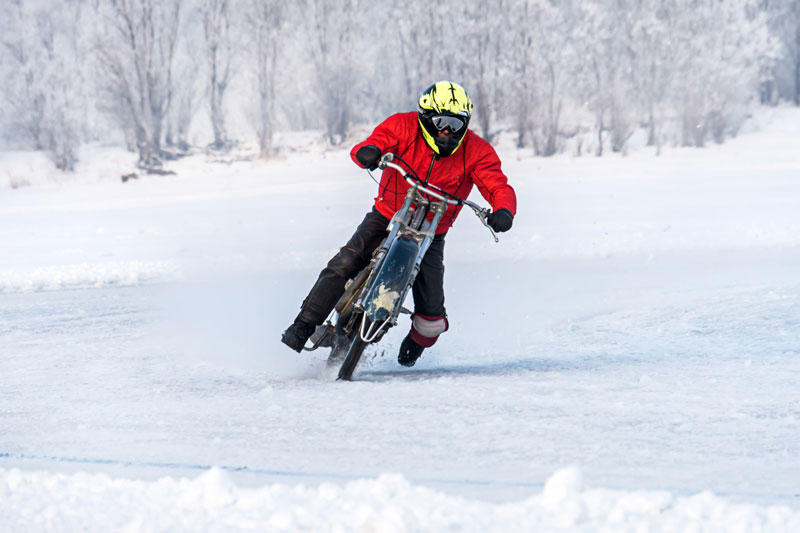helmet: (416, 78, 473, 156)
